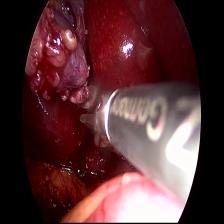Scissors: (78, 72, 122, 153)
